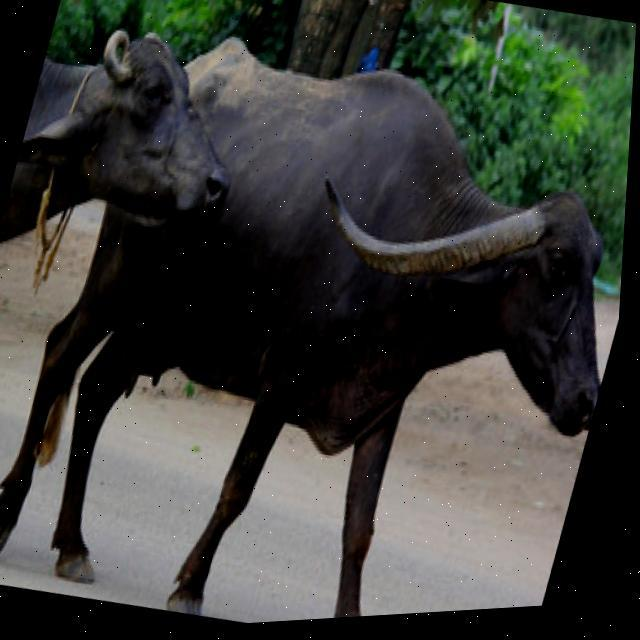Buffalo: (123, 27, 636, 630), (0, 5, 274, 272)
